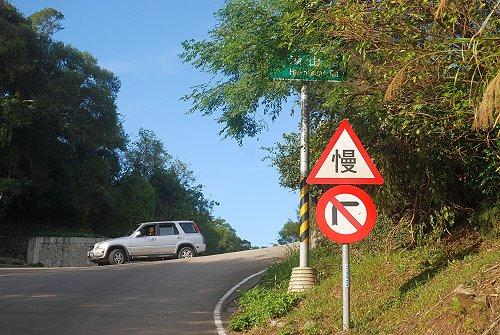no_right_turn: (315, 183, 375, 243)
